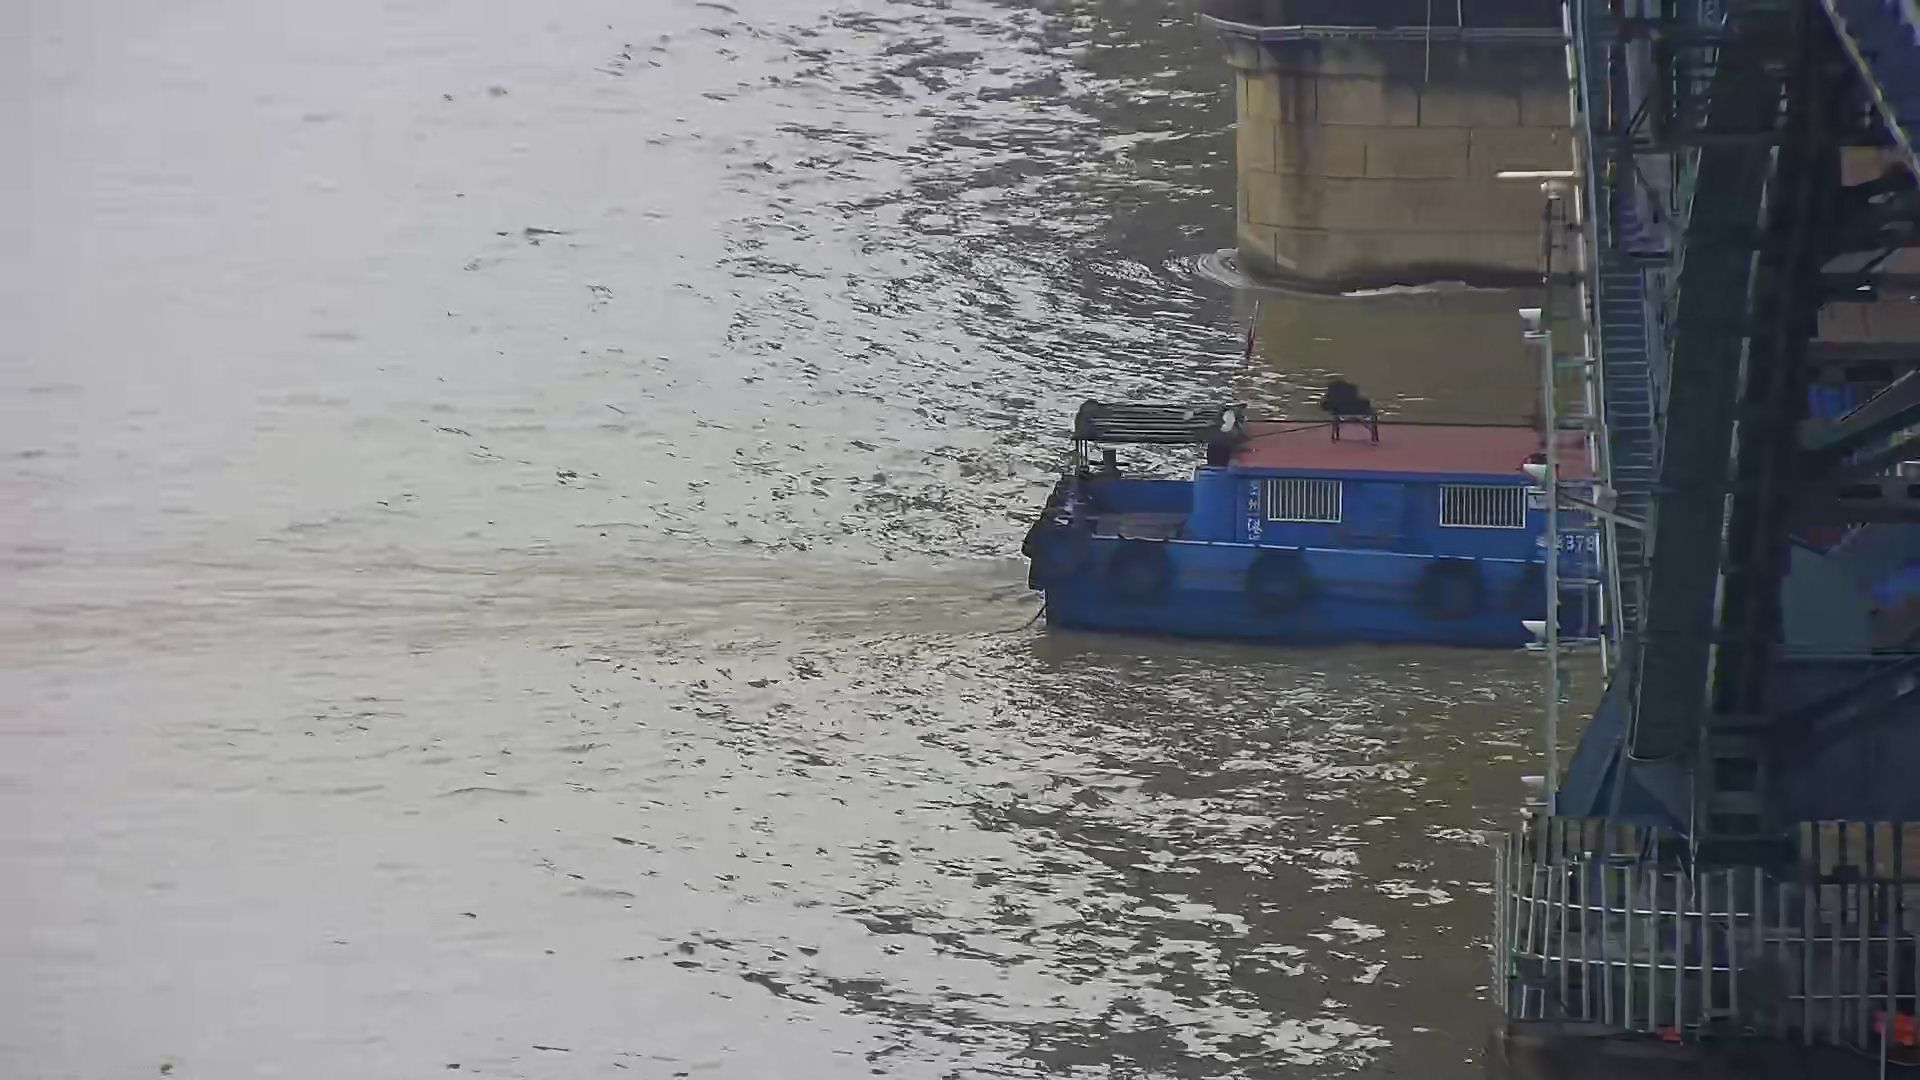boat: (988, 156, 1627, 658)
bridge: (1458, 1, 1920, 1069), (1164, 5, 1602, 297)
